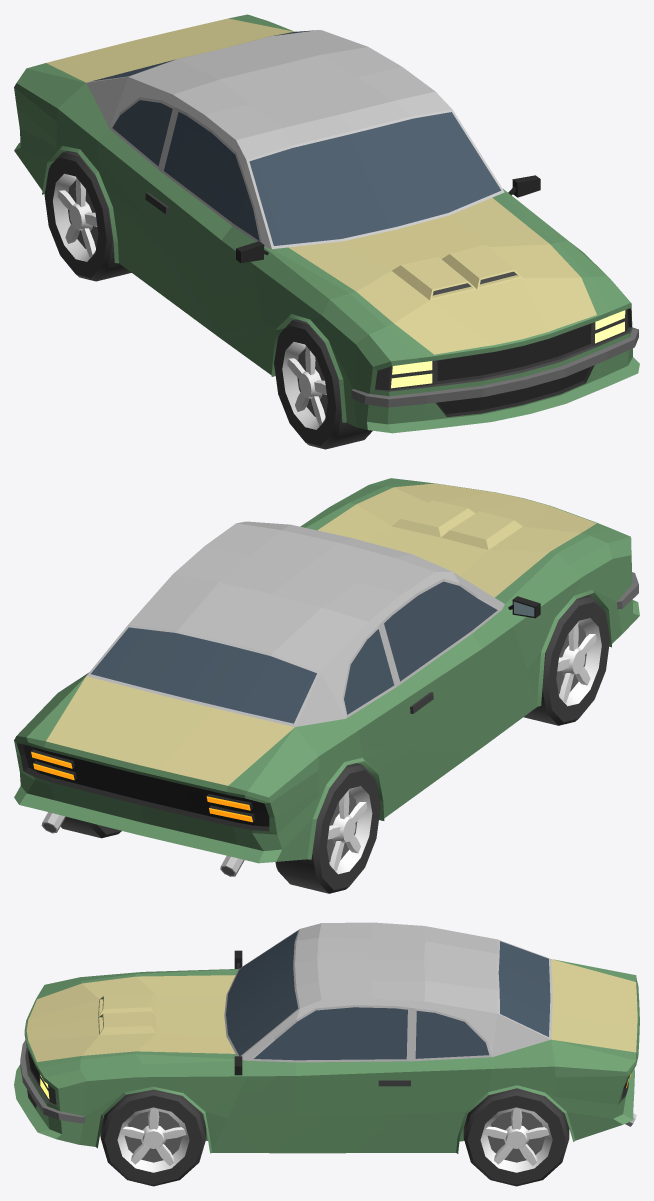
Rendered from N_Muscle_Car_10.glb.
3 renders of one model, top to bottom at view 1: azimuth 30°, elevation 25°; view 2: azimuth 150°, elevation 25°; view 3: azimuth 270°, elevation 25°, orthographic. The views are drawn at different scales.
Visible parts, largest first — view 1: N_Muscle Car_10, N_Muscle Car_10 FR Tire, N_Muscle Car_10 BR Tire; view 2: N_Muscle Car_10, N_Muscle Car_10 BR Tire, N_Muscle Car_10 FR Tire, N_Muscle Car_10 BL Tire; view 3: N_Muscle Car_10, N_Muscle Car_10 BL Tire, N_Muscle Car_10 FL Tire.
Part boxes in pixels (<box>): N_Muscle Car_10: <box>14,14,639,433</box>; N_Muscle Car_10 FR Tire: <box>274,319,372,449</box>; N_Muscle Car_10 BR Tire: <box>44,151,131,281</box>; N_Muscle Car_10: <box>14,478,639,876</box>; N_Muscle Car_10 BR Tire: <box>275,763,380,893</box>; N_Muscle Car_10 FR Tire: <box>523,595,609,725</box>; N_Muscle Car_10 BL Tire: <box>60,816,121,838</box>; N_Muscle Car_10: <box>14,922,639,1153</box>; N_Muscle Car_10 BL Tire: <box>463,1088,569,1186</box>; N_Muscle Car_10 FL Tire: <box>100,1089,206,1186</box>.
Bounding box in the file's own units: 2.03 × 1.44 × 4.64.
2 materials, 2 textured.
